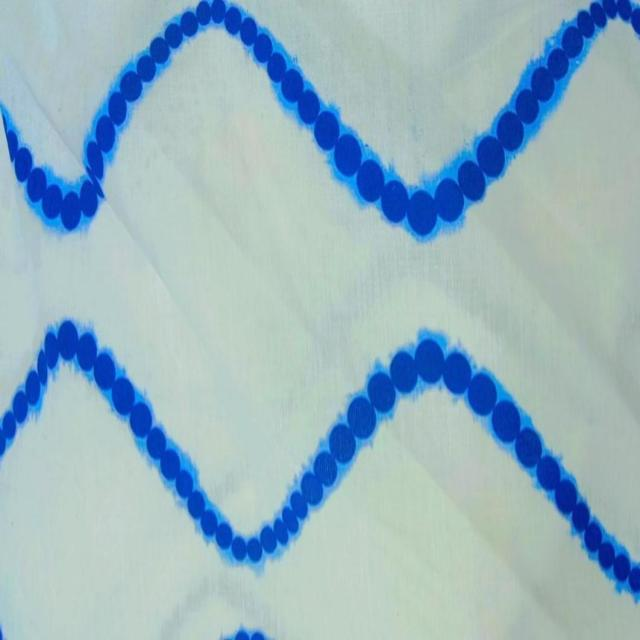color issues: (5, 316, 640, 608), (0, 0, 638, 240)
